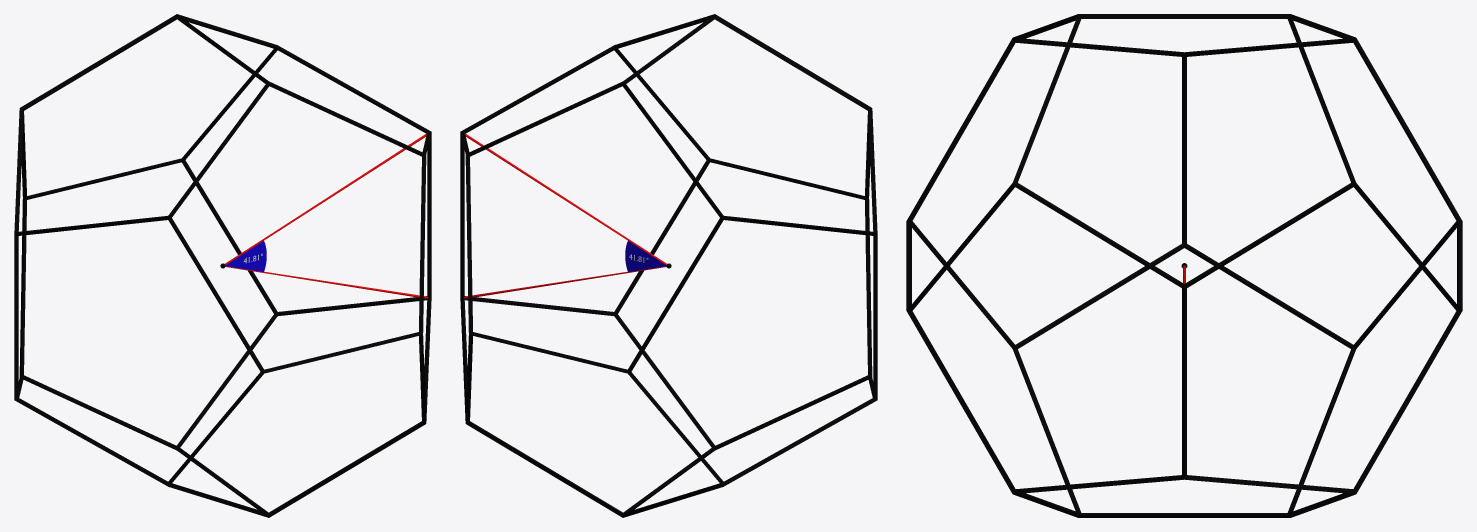
The model's file is Ang_central.glb.
The picture shows the model from 3 angles, left to right: view 1: azimuth 30°, elevation 25°; view 2: azimuth 150°, elevation 25°; view 3: azimuth 270°, elevation 25°; orthographic projection. The views are drawn at different scales.
Parts seen in each view (by area): view 1: Solid.001, Solid.004, Circle; view 2: Solid.001, Solid.004, Circle; view 3: Solid.001.
Part boxes in pixels (left/top/right/bottom): Solid.001: left=14, top=14, right=431, bottom=517; Solid.004: left=225, top=133, right=428, bottom=298; Circle: left=225, top=240, right=266, bottom=271; Solid.001: left=460, top=14, right=877, bottom=517; Solid.004: left=463, top=133, right=666, bottom=298; Circle: left=625, top=240, right=666, bottom=271; Solid.001: left=906, top=14, right=1462, bottom=517.
Size of the model in its own units: 1.89 by 1.89 by 1.89.
